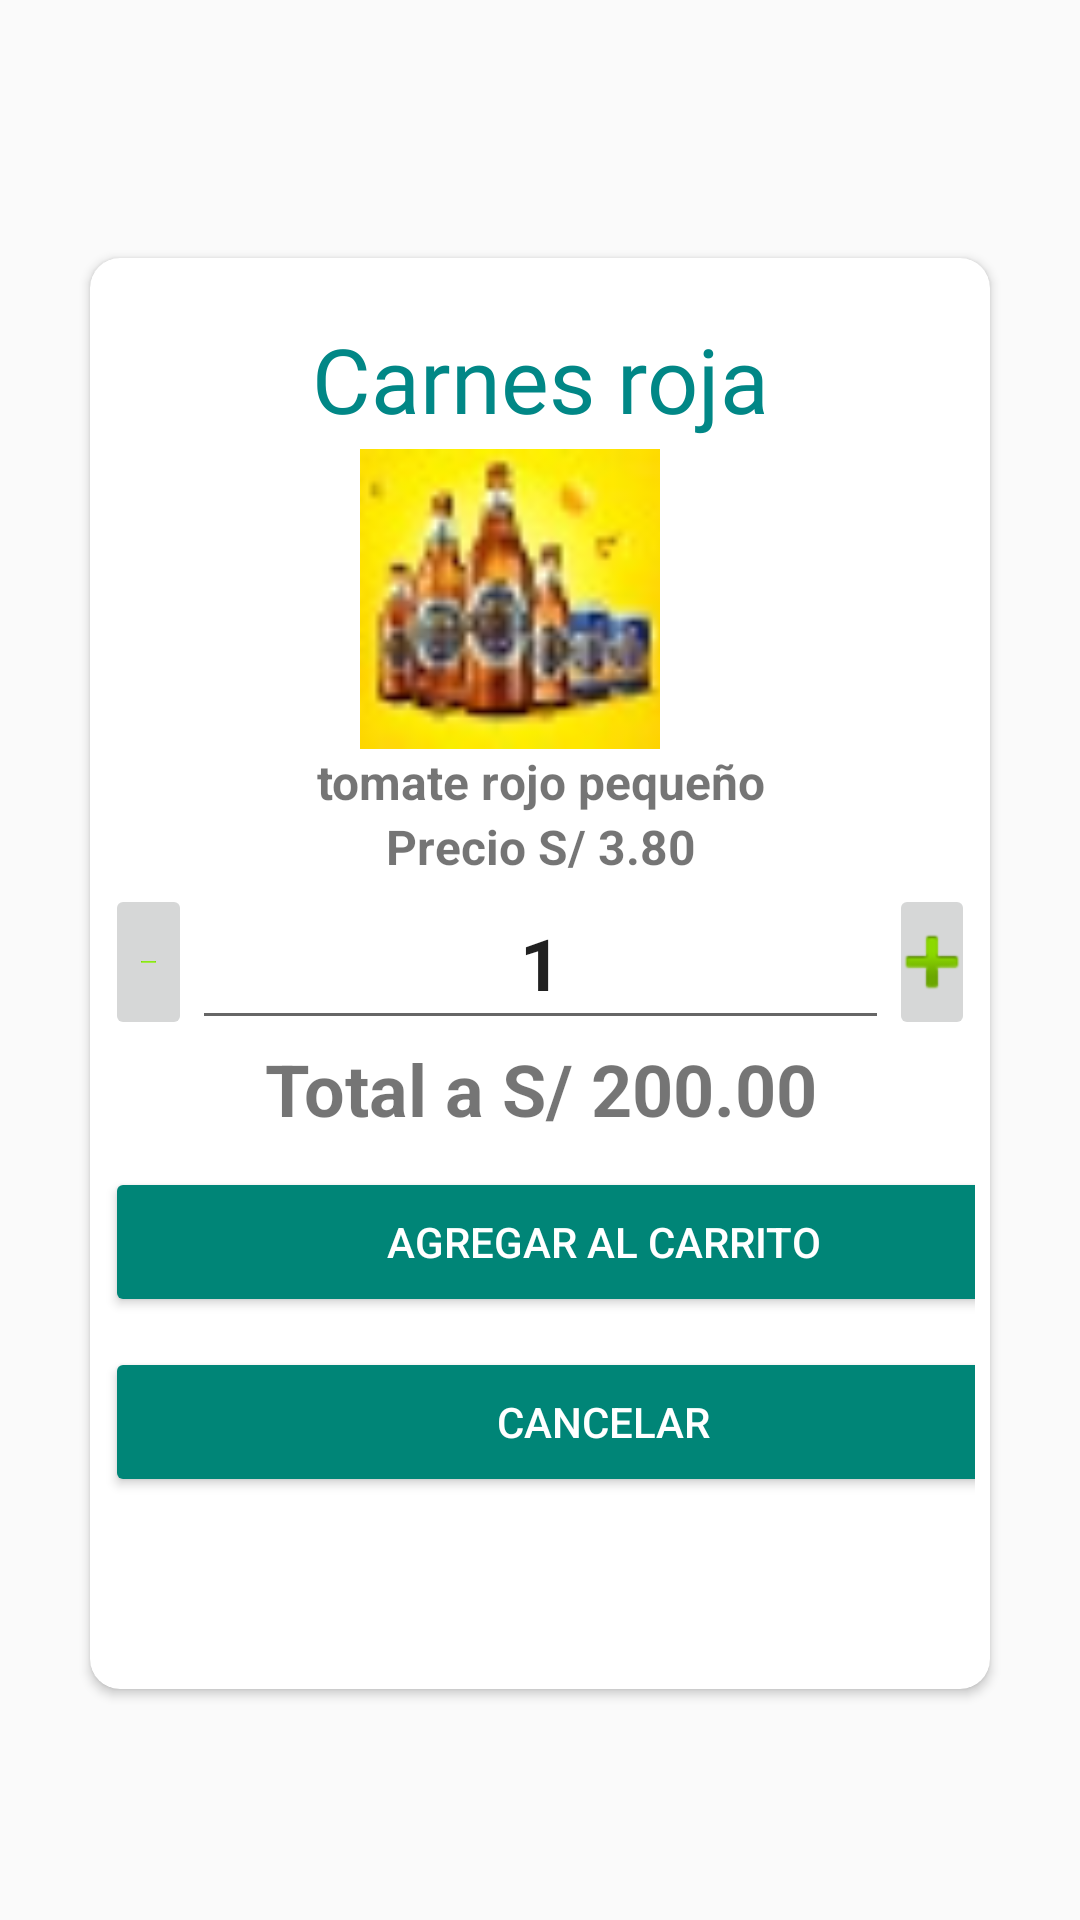

Named icons in this screenshot (1080 × 1920) and their bounding boxes, [x1=x1, y1=y1, x2=x2, y2=y2]:
add: [x1=901, y1=902, x2=963, y2=1022]
